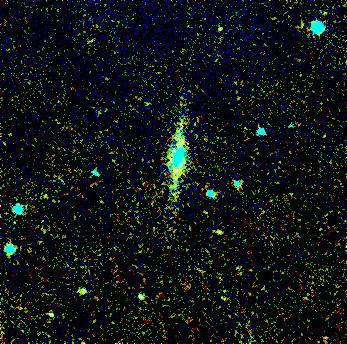star: (202, 217, 232, 247)
